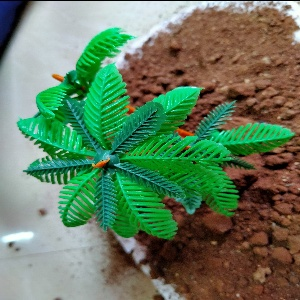plant: (18, 30, 294, 241)
